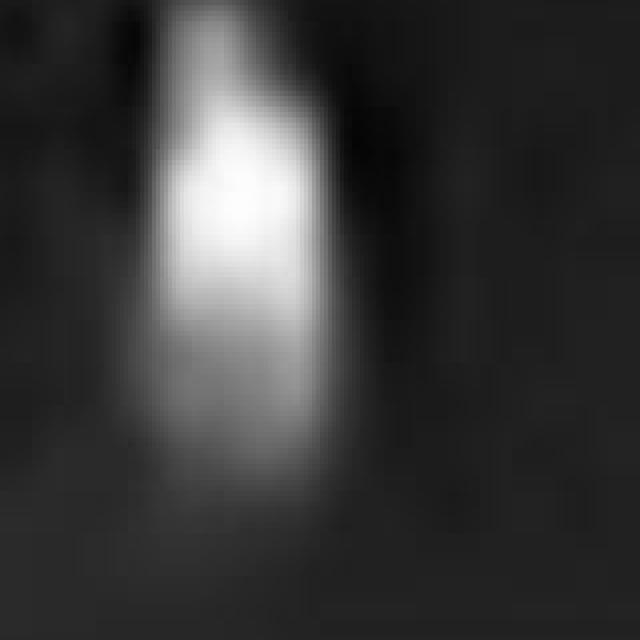person: (97, 1, 369, 529)
